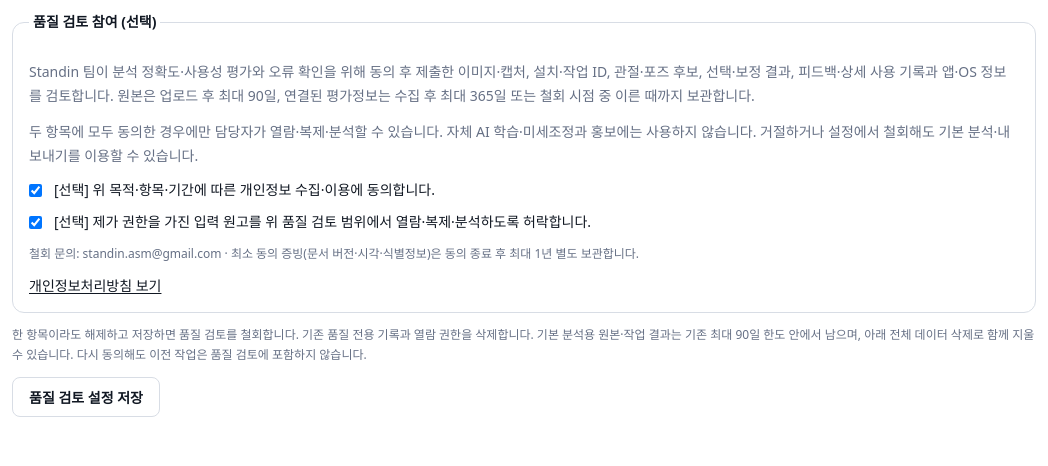
Test case: optional quality consent › unchecking one permission withdraws review only and keeps installation credentials
Click the checkbox labelled "[선택] 위 목적·항목·기간에 따른 개인정보 수집·이용에 동의합니다.": (36, 190) [29,184,42,197]
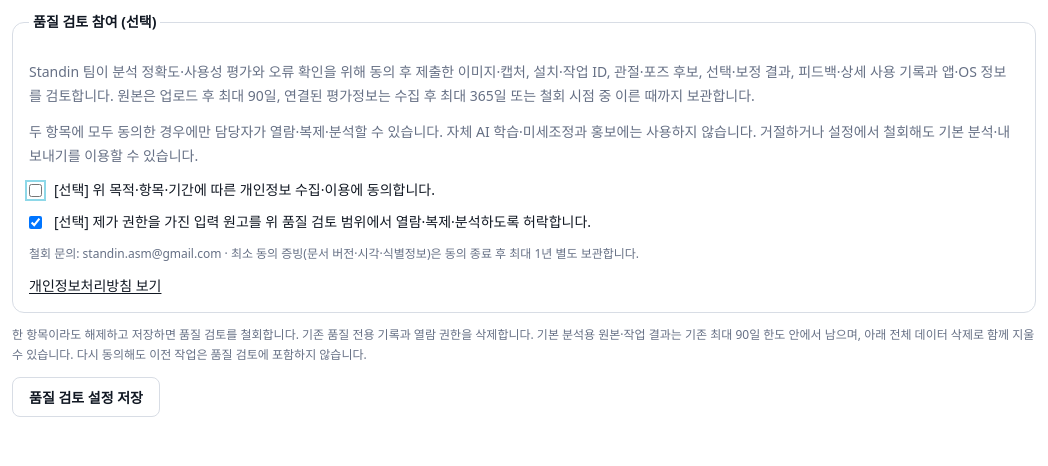
Click the button "품질 검토 설정 저장": (86, 397) [12,377,160,417]
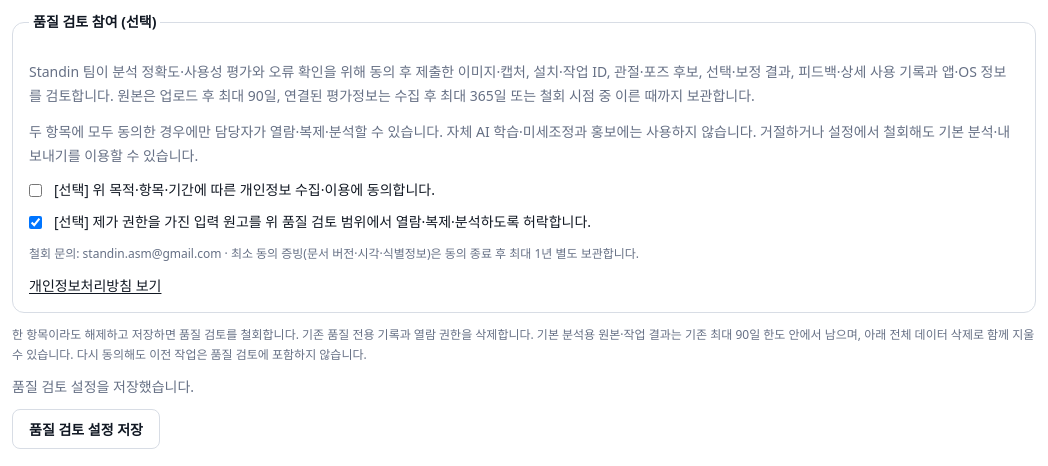
Result: the message shows "저장했습니다" at [12,377,194,396]
